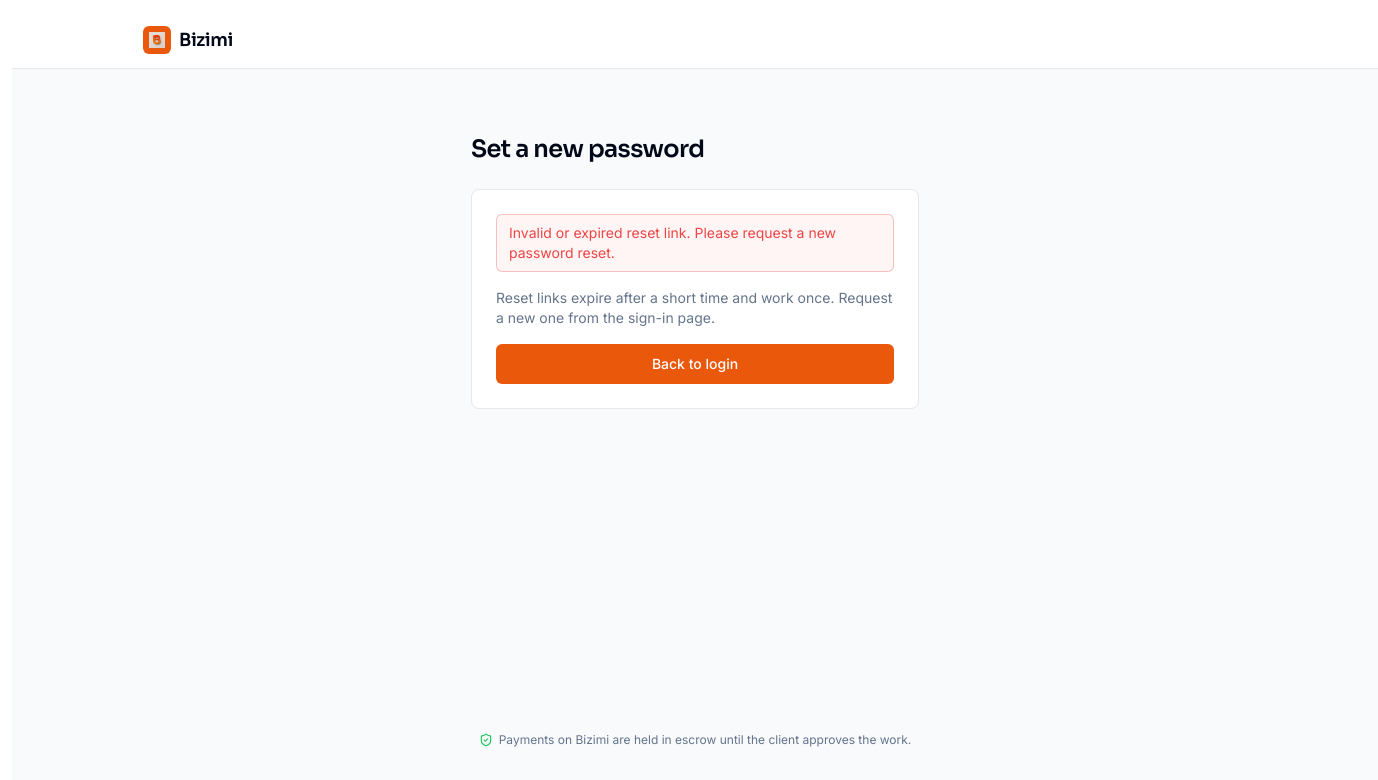
Test: ResetPassword › shows the invalid-link message and a working Back to Login button when there is no active session
Expected: the text "Invalid or expired reset link. Please request a new password reset." is shown, [496,214,894,272]
Click the button "Back to login": (695,364) [496,344,894,384]
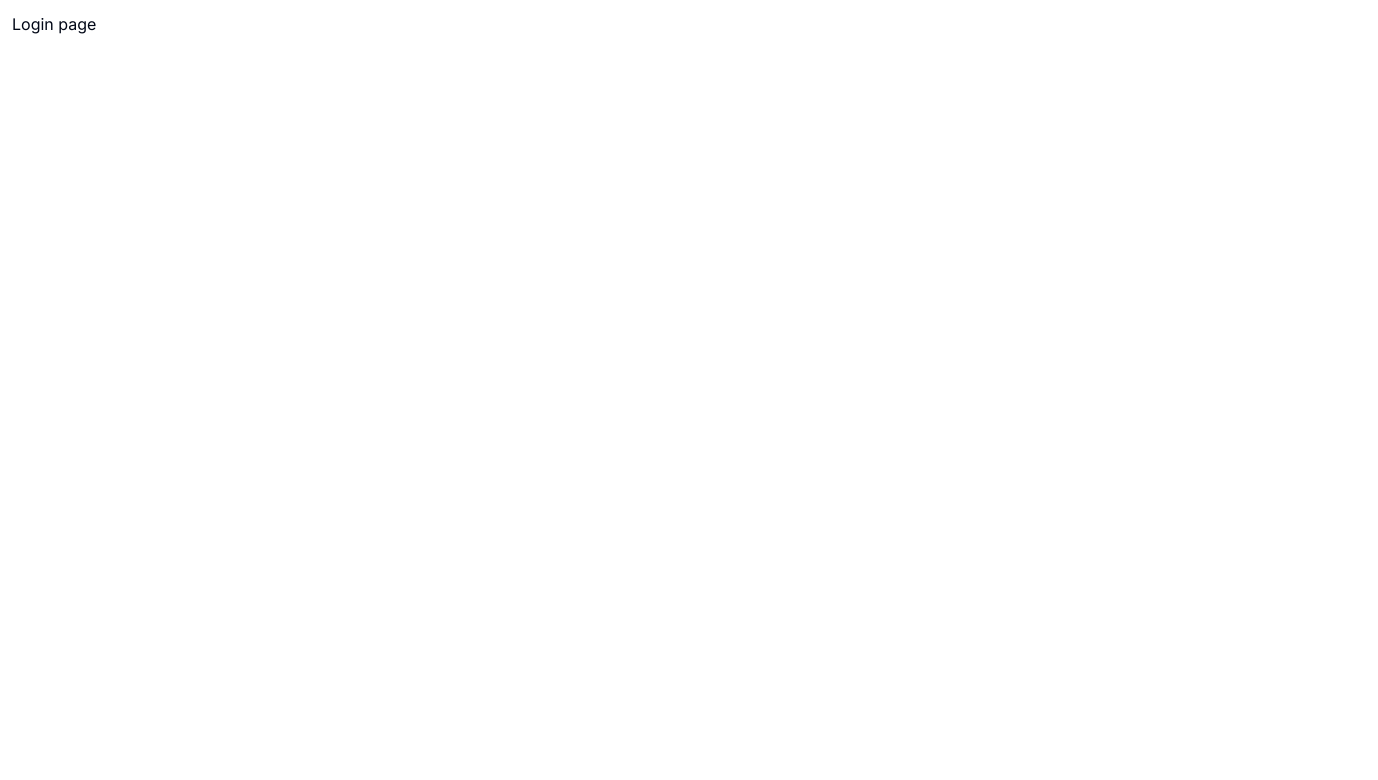
Expected: the text "Login page" is shown, [12,14,96,34]
